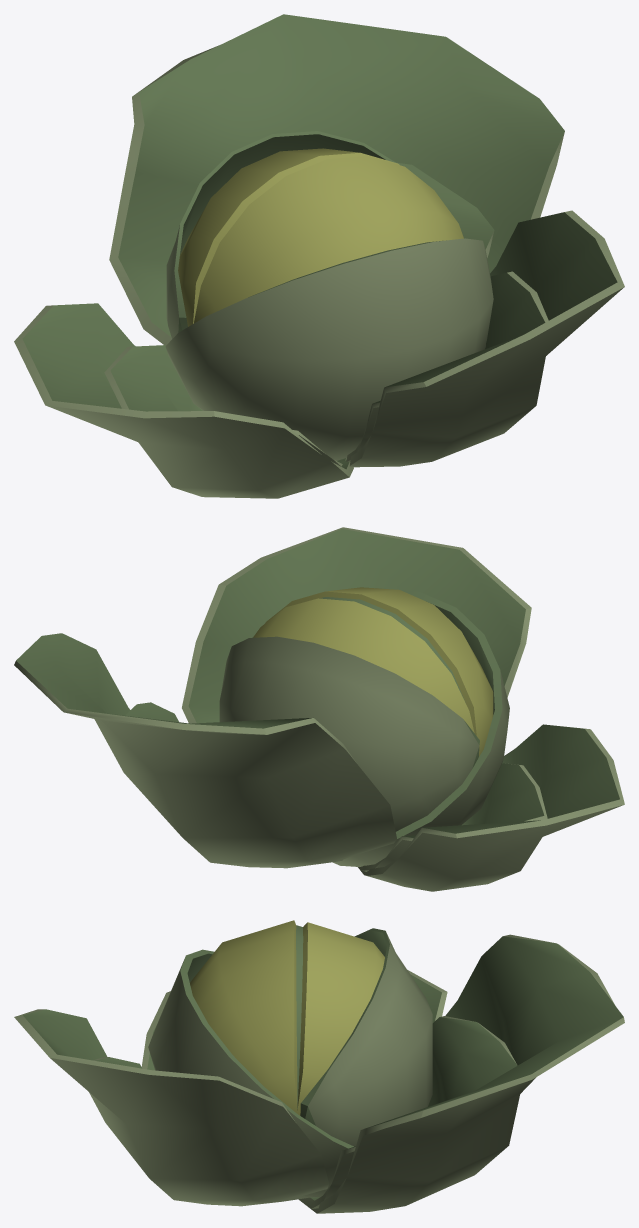
File: PL_cabbageStage3_01.fbx
3 views of the same model, one above another, from view 1: azimuth 30°, elevation 25°; view 2: azimuth 150°, elevation 25°; view 3: azimuth 270°, elevation 25° (orthographic). The views are drawn at different scales.
Parts seen in each view (by area): view 1: lod1; view 2: lod1; view 3: lod1.
Boxes of the visible parts, x1,y1,x2,y2 form: lod1: (14, 14, 624, 498); lod1: (14, 527, 624, 891); lod1: (14, 920, 624, 1213).
Size of what is drawn, in the model's own units: 70.95 by 35.7 by 73.67.
1 material, 1 textured.
